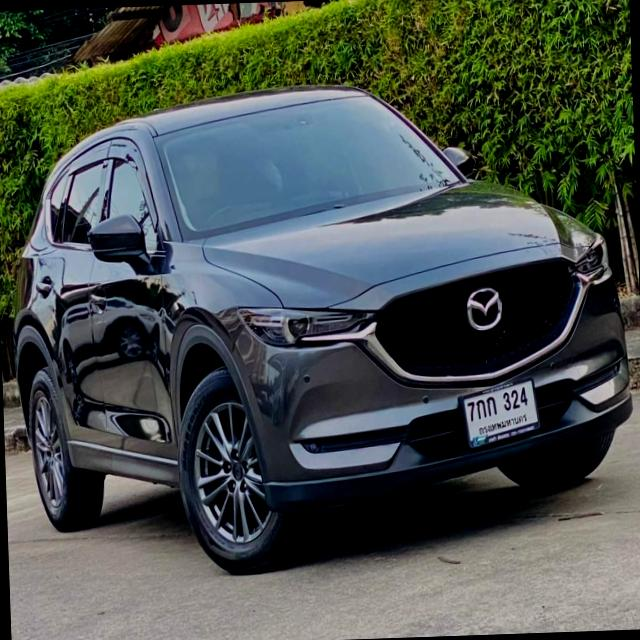license_plate: (458, 377, 540, 450)
